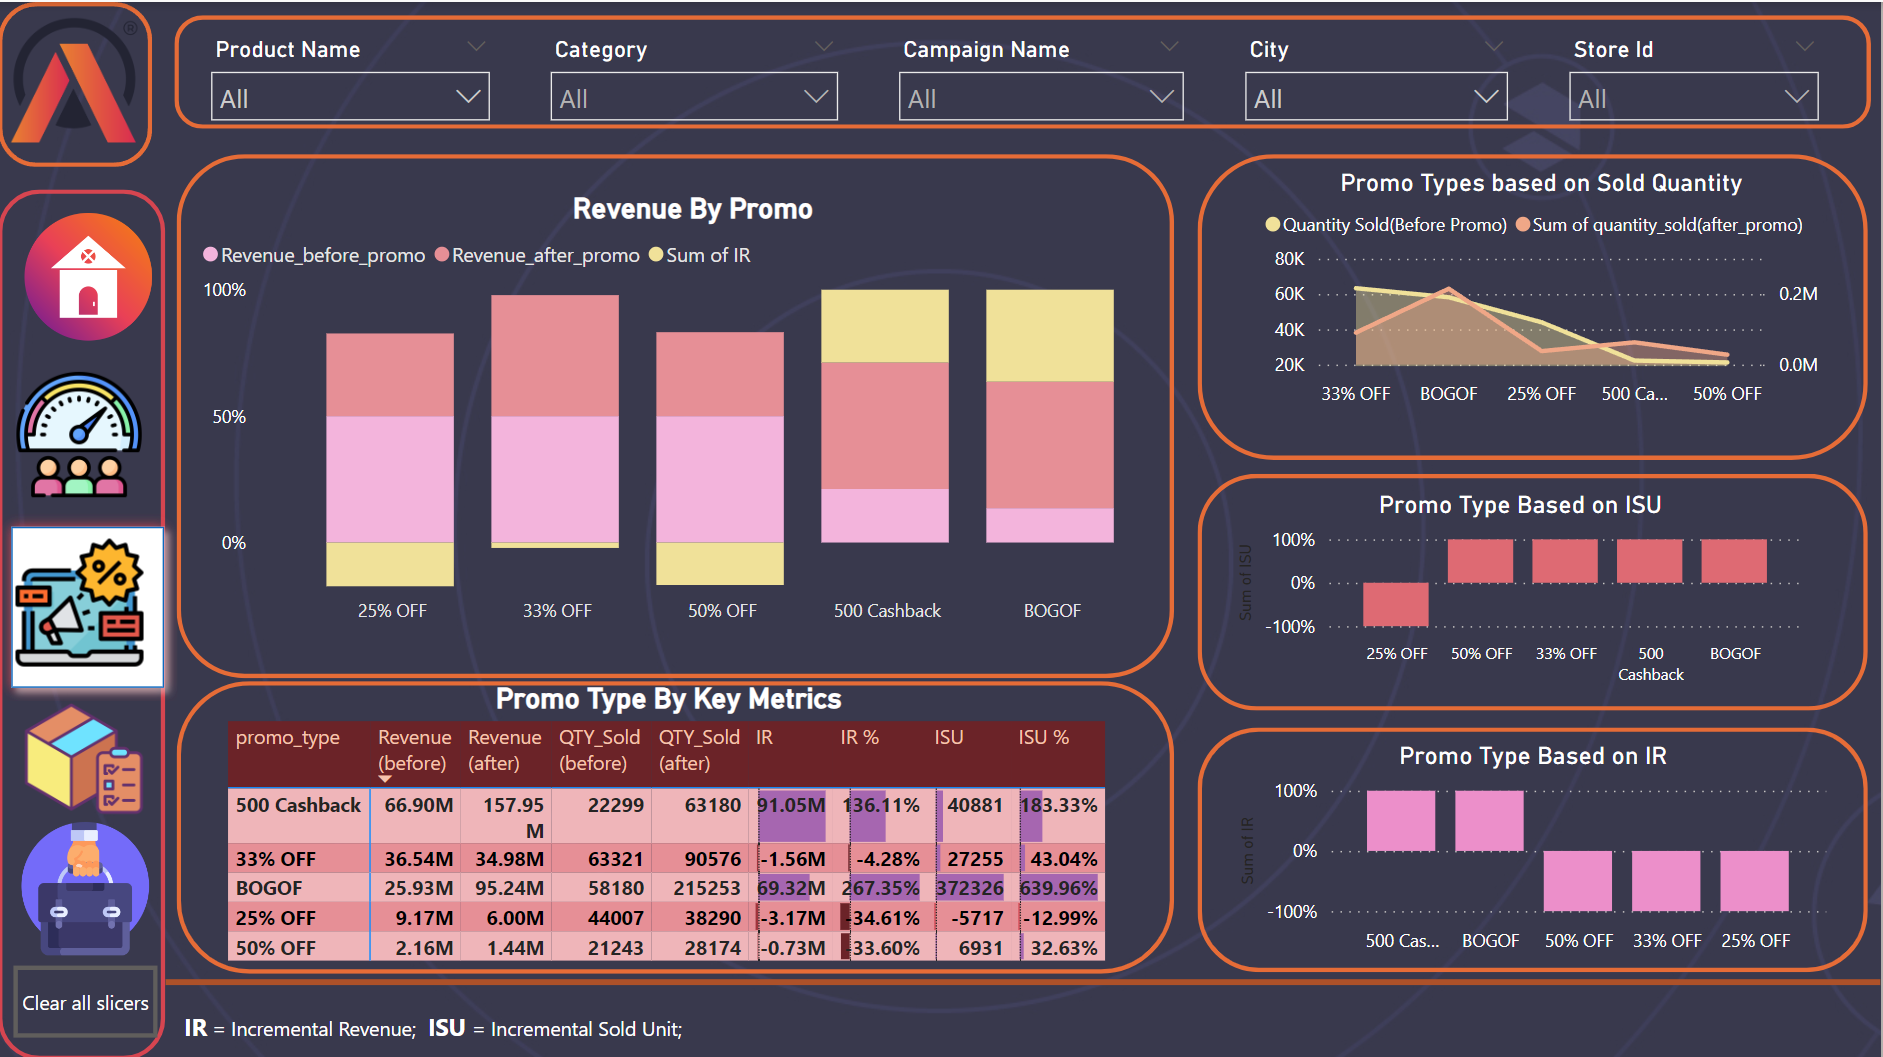

Layout of this report page (visuals, bound fields, positions):
{"tool":"powerbi","page":{"name":"Promotion Analysis","canvas":[1280,720],"ordinal":2},"visuals":[{"type":"shape","box":[0,127.5,113.7,592.2],"z":0},{"type":"shape","box":[121.2,461.2,678.3,199],"z":1000},{"type":"shape","box":[0,347.4,122,127.5],"z":2000},{"type":"shape","box":[815.7,320.1,455.8,161],"z":3000},{"type":"shape","box":[815.7,103.1,455.8,208],"z":4000},{"type":"shape","box":[119.6,9.2,1153.6,77.3],"z":5000},{"type":"shape","box":[815.7,493.8,455.8,166.4],"z":6000},{"type":"shape","box":[121.2,103.1,678.3,356.3],"z":7000},{"type":"shape","box":[0,0,104.9,112.2],"z":8000},{"type":"slicer","fields":{"Values":["dim_products.product_name"]},"box":[134.3,18.4,209.7,68.1],"z":9000},{"type":"slicer","fields":{"Values":["dim_products.category"]},"box":[365.7,18.4,215.3,68.1],"z":10000},{"type":"slicer","fields":{"Values":["dim_campaign.campaign_name"]},"box":[602.6,18.4,213.4,68.1],"z":11000},{"type":"slicer","fields":{"Values":["dim_stores.city"]},"box":[837.6,18.4,198.7,68.1],"z":12000},{"type":"slicer","fields":{"Values":["dim_stores.store_id"]},"box":[1057.9,18.4,189.5,68.1],"z":13000},{"type":"pivotTable","title":"Promo Type By Key Metrics","fields":{"Values":["Key_measures.Revenue_before_promo","Key_measures.Revenue_after_promo","Sum(fact_events.quantity_sold(before_promo))","Sum(fact_events.quantity_sold(after_promo))","Sum(fact_events.IR)","Key_measures.IR %","Sum(fact_events.ISU)","Key_measures.ISU %"],"Rows":["fact_events.promo_type"]},"box":[151.9,461.2,609.5,199],"z":14000},{"type":"image","box":[3.6,3.6,99.5,99.5],"z":15000},{"type":"image","box":[11.4,112.3,98.9,148.4],"z":16000},{"type":"image","box":[7.6,243.5,95.1,102.7],"z":17000},{"type":"image","box":[5.7,359.6,98.9,97],"z":18000},{"type":"image","box":[9.5,468,98.9,93.2],"z":19000},{"type":"hundredPercentStackedColumnChart","title":"Promo Type Based on ISU","fields":{"Category":["fact_events.promo_type"],"Y":["Sum(fact_events.ISU)"]},"box":[837.4,331,394.3,141.1],"z":20000},{"type":"hundredPercentStackedColumnChart","title":"Promo Type Based on IR","fields":{"Category":["fact_events.promo_type"],"Y":["Sum(fact_events.IR)"]},"box":[839.2,502.8,408.8,151.9],"z":21000},{"type":"actionButton","box":[9.8,654.9,98,49],"z":22000},{"type":"areaChart","title":"Promo Types based on Sold Quantity","fields":{"Category":["fact_events.promo_type"],"Y":["Sum(fact_events.quantity_sold(before_promo))"],"Y2":["Sum(fact_events.quantity_sold(after_promo))"]},"box":[855.5,112.1,387.1,170],"z":23000},{"type":"hundredPercentStackedColumnChart","title":"Revenue By Promo","fields":{"Category":["dim_stores.city","fact_events.promo_type"],"Y":["Key_measures.Revenue_before_promo","Key_measures.Revenue_after_promo","Sum(fact_events.IR)"]},"box":[133.8,128.4,678.3,303.9],"z":24000},{"type":"image","box":[9.5,546,100.8,114.2],"z":25000},{"type":"shape","box":[114.6,615.3,1166,103.5],"z":26000},{"type":"textbox","box":[122,680,617.2,38.8],"z":27000}]}

Visuals, with their boxes in screenshot pixels (x1, y1, x2, y2), scaled from the page's 1280x720 canvas onto the 1883x1057 screenshot:
shape: [left=0, top=187, right=167, bottom=1056]
shape: [left=178, top=677, right=1176, bottom=969]
shape: [left=0, top=510, right=179, bottom=697]
shape: [left=1200, top=470, right=1870, bottom=706]
shape: [left=1200, top=151, right=1870, bottom=457]
shape: [left=176, top=14, right=1873, bottom=127]
shape: [left=1200, top=725, right=1870, bottom=969]
shape: [left=178, top=151, right=1176, bottom=674]
shape: [left=0, top=0, right=154, bottom=165]
slicer - dim_products.product_name: [left=198, top=27, right=506, bottom=127]
slicer - dim_products.category: [left=538, top=27, right=855, bottom=127]
slicer - dim_campaign.campaign_name: [left=886, top=27, right=1200, bottom=127]
slicer - dim_stores.city: [left=1232, top=27, right=1524, bottom=127]
slicer - dim_stores.store_id: [left=1556, top=27, right=1835, bottom=127]
"Promo Type By Key Metrics" pivotTable: [left=223, top=677, right=1120, bottom=969]
image: [left=5, top=5, right=152, bottom=151]
image: [left=17, top=165, right=162, bottom=383]
image: [left=11, top=357, right=151, bottom=508]
image: [left=8, top=528, right=154, bottom=670]
image: [left=14, top=687, right=159, bottom=824]
"Promo Type Based on ISU" hundredPercentStackedColumnChart: [left=1232, top=486, right=1812, bottom=693]
"Promo Type Based on IR" hundredPercentStackedColumnChart: [left=1235, top=738, right=1836, bottom=961]
actionButton: [left=14, top=961, right=159, bottom=1033]
"Promo Types based on Sold Quantity" areaChart: [left=1259, top=165, right=1828, bottom=414]
"Revenue By Promo" hundredPercentStackedColumnChart: [left=197, top=188, right=1195, bottom=635]
image: [left=14, top=802, right=162, bottom=969]
shape: [left=169, top=903, right=1882, bottom=1055]
textbox: [left=179, top=998, right=1087, bottom=1055]
